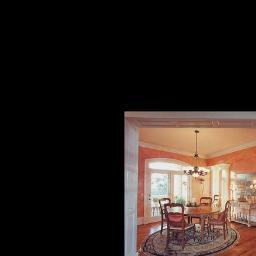Puerta: (147, 171, 168, 222), (171, 175, 189, 203)
